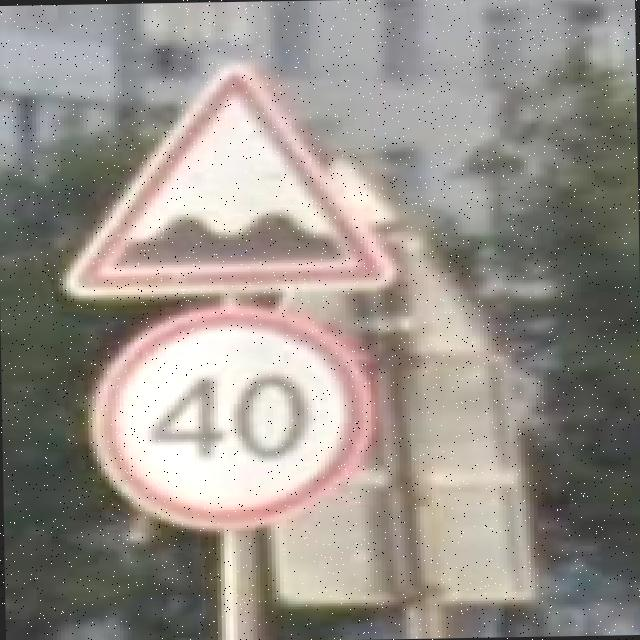Ograniczenie predkosci do 40: (90, 308, 380, 532)
